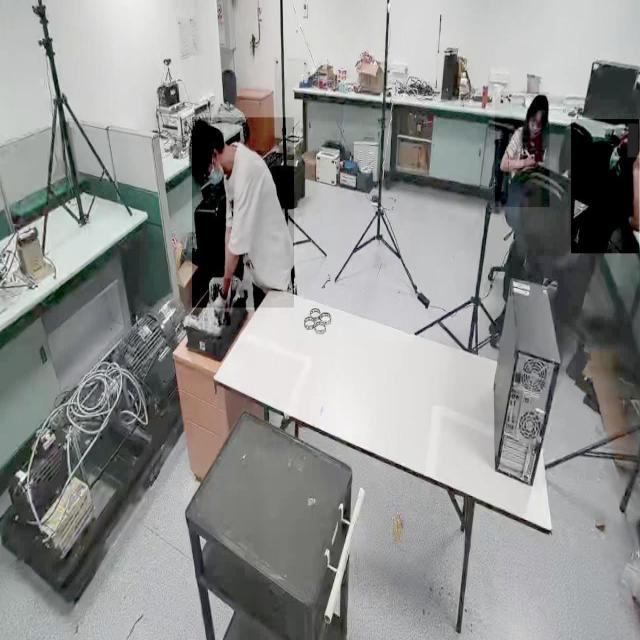face_mask: (604, 142, 626, 188), (208, 161, 228, 190)
face_nomask: (527, 114, 542, 138)
hand_glove: (213, 278, 231, 326)
hand_noglove: (524, 151, 536, 168)
head_nohelmet: (190, 121, 222, 147), (627, 124, 639, 158), (530, 93, 548, 111)
person: (192, 118, 294, 308), (571, 119, 639, 254), (495, 92, 550, 208)
